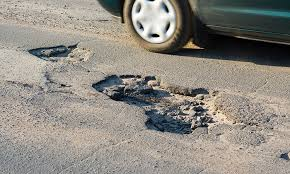pothole: (148, 75, 219, 139), (221, 91, 287, 142), (91, 72, 146, 105), (29, 42, 93, 66), (40, 71, 78, 95), (279, 148, 290, 157)
